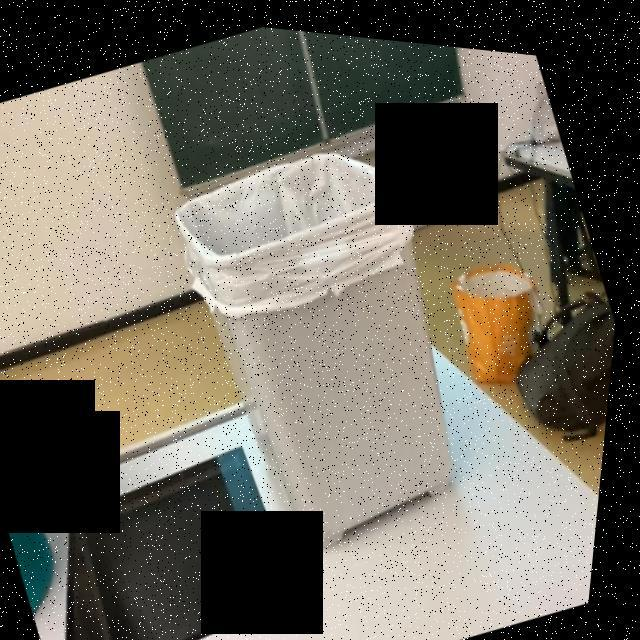bin: (117, 80, 550, 587)
